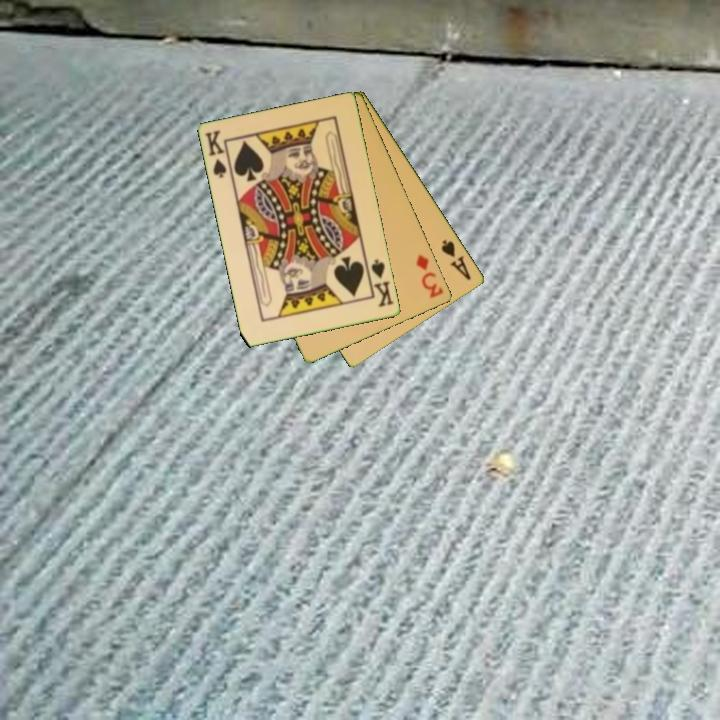3d: (413, 251, 447, 302)
As: (438, 236, 474, 283)
Ks: (364, 256, 398, 310), (202, 127, 234, 181)
